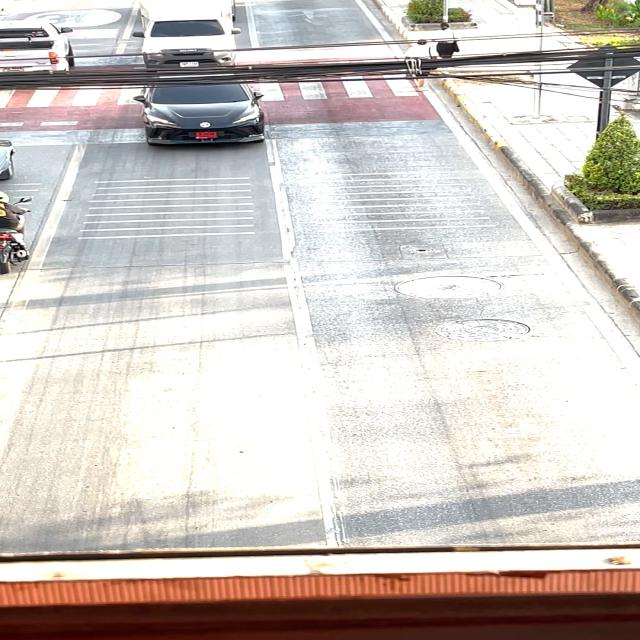car: (120, 78, 291, 156), (132, 0, 258, 74)
